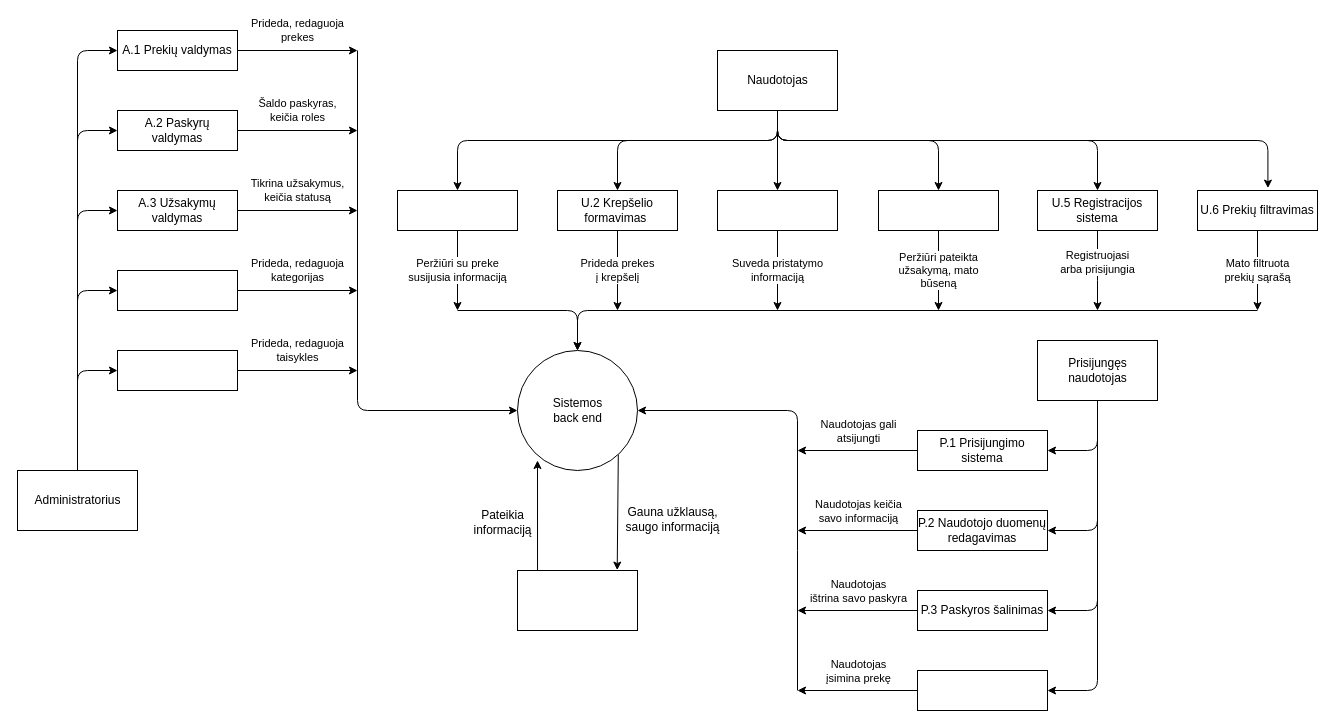
Some shapes in this 1335 by 728 pixel diagram are drawn without their labels. Each missing label, with the centre of its shape:
A.4 Kategorijų valdymas: point (177, 290)
A.5 Suderinamumo taisyklių valdymas: point (177, 370)
Duomenų bazė: point (577, 600)
P.4 Įsiminti prekę: point (982, 690)
U.1 Prekių peržiūra: point (457, 210)
U.3 Užsakymo formavimas: point (777, 210)
U.4 Užsakymo peržiūra: point (938, 210)
